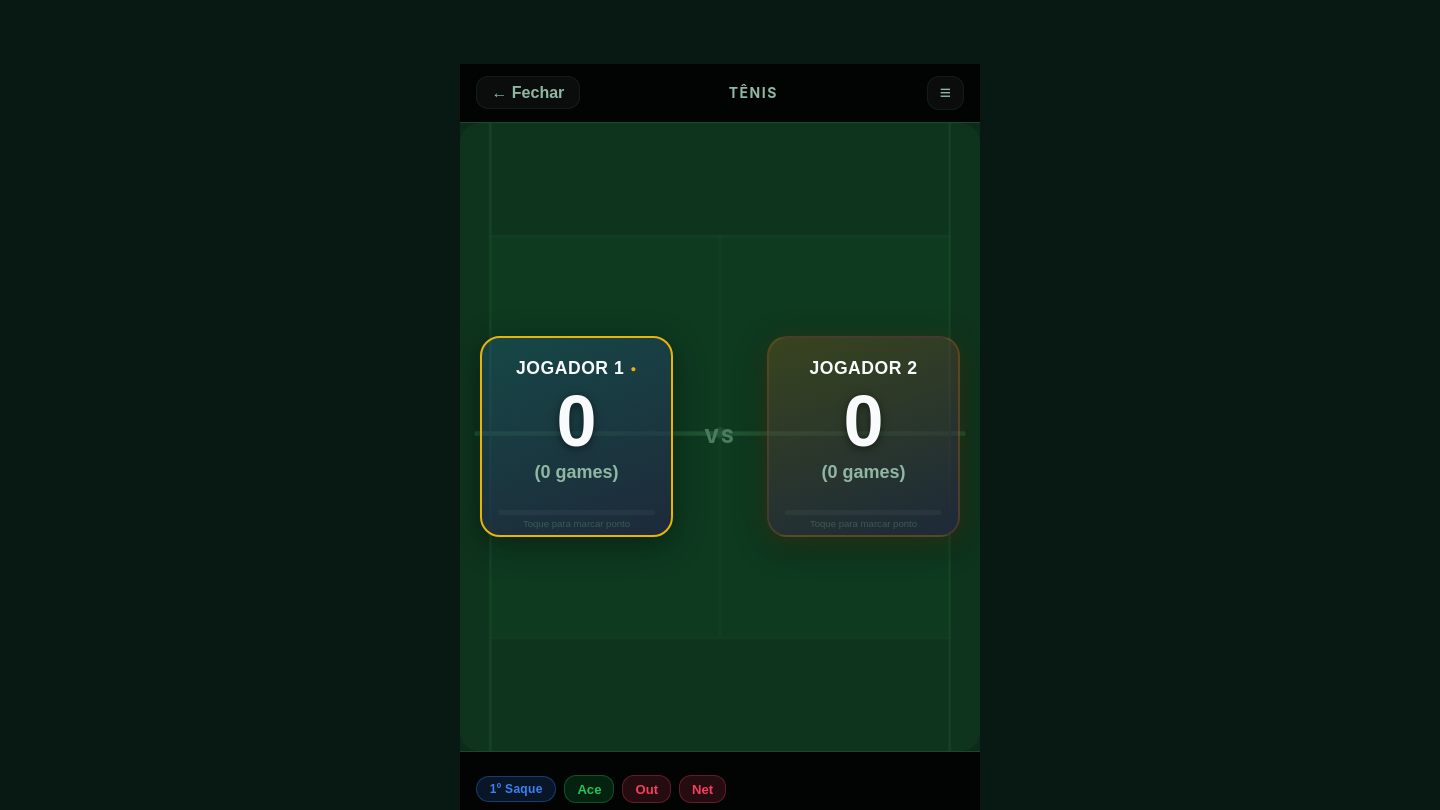
Test: ScoreboardV2 - Ace Button Behavior › Ace button functionality › opens ServerEffectModal when Ace button is clicked on second serve
The width and height of the screenshot is (1440, 810).
expect the text "Jogador 1" is shown: met, box 516,358 -> 624,378
Go to second serve: click Out → confirm error modal → now in 2º saque
Click the button "Out".
click(647, 789)  # box 622,775 -> 671,803
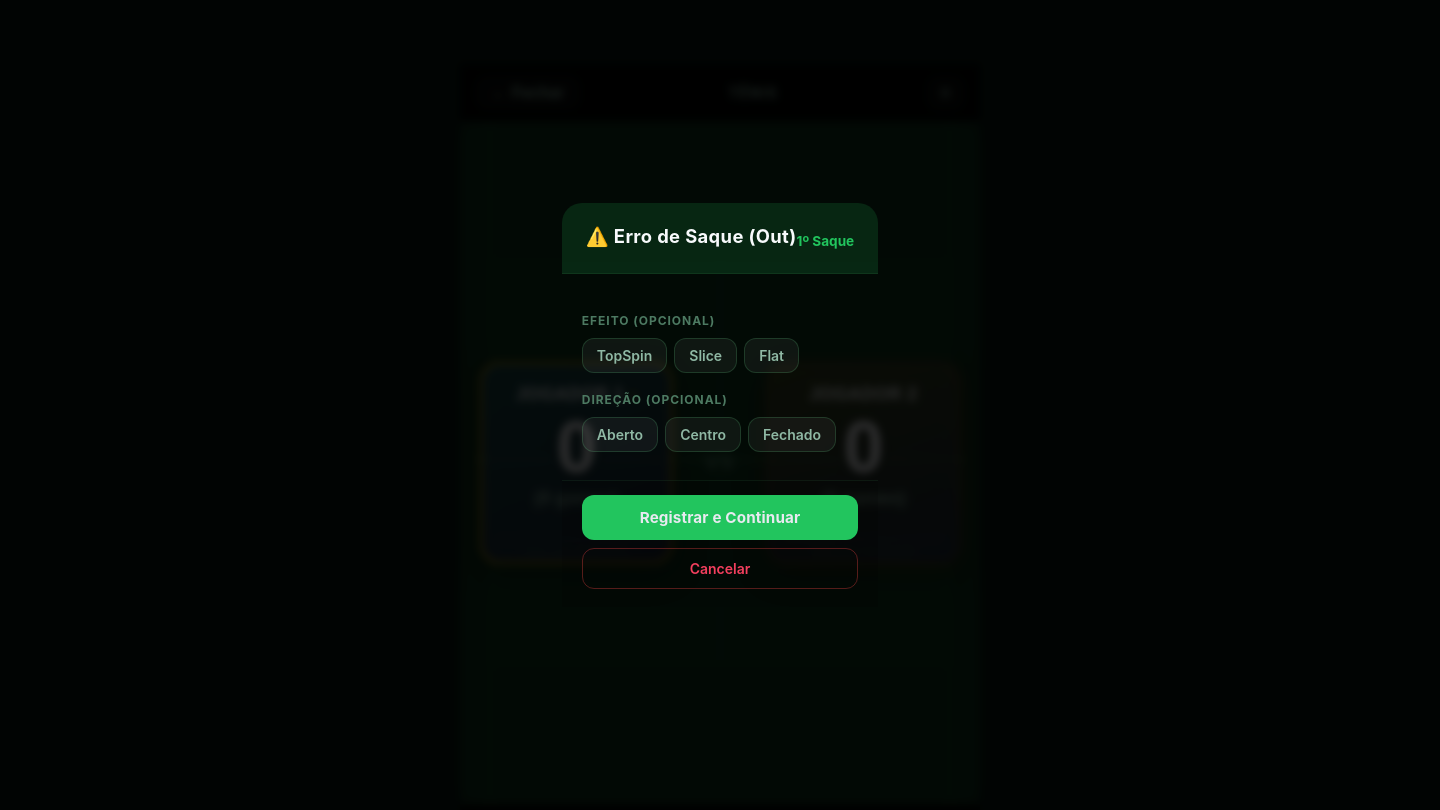
Click the button with aria-label "Confirm ServerEffect".
click(720, 517)  # box 582,495 -> 858,540
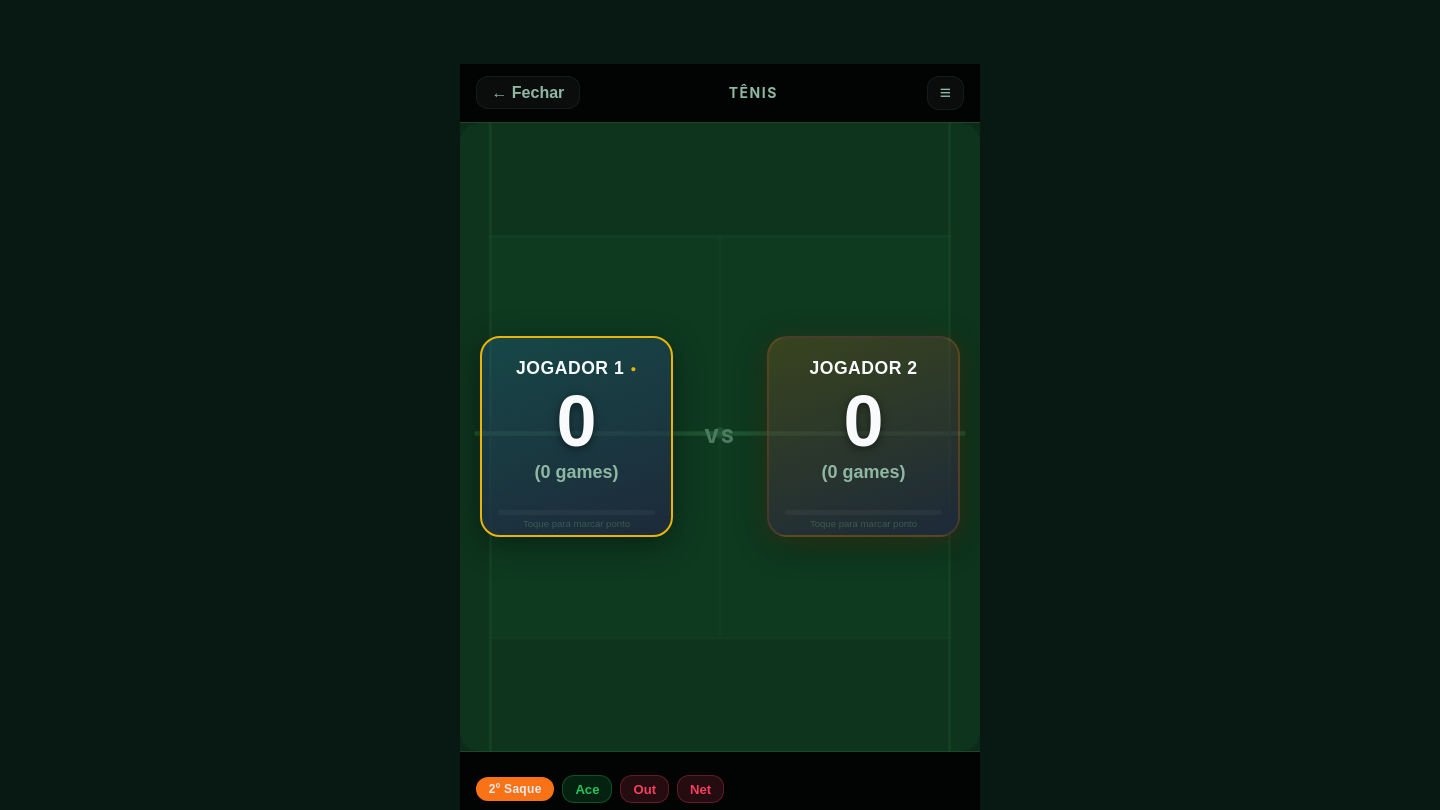
Click the button "Ace".
click(587, 789)  # box 562,775 -> 612,803
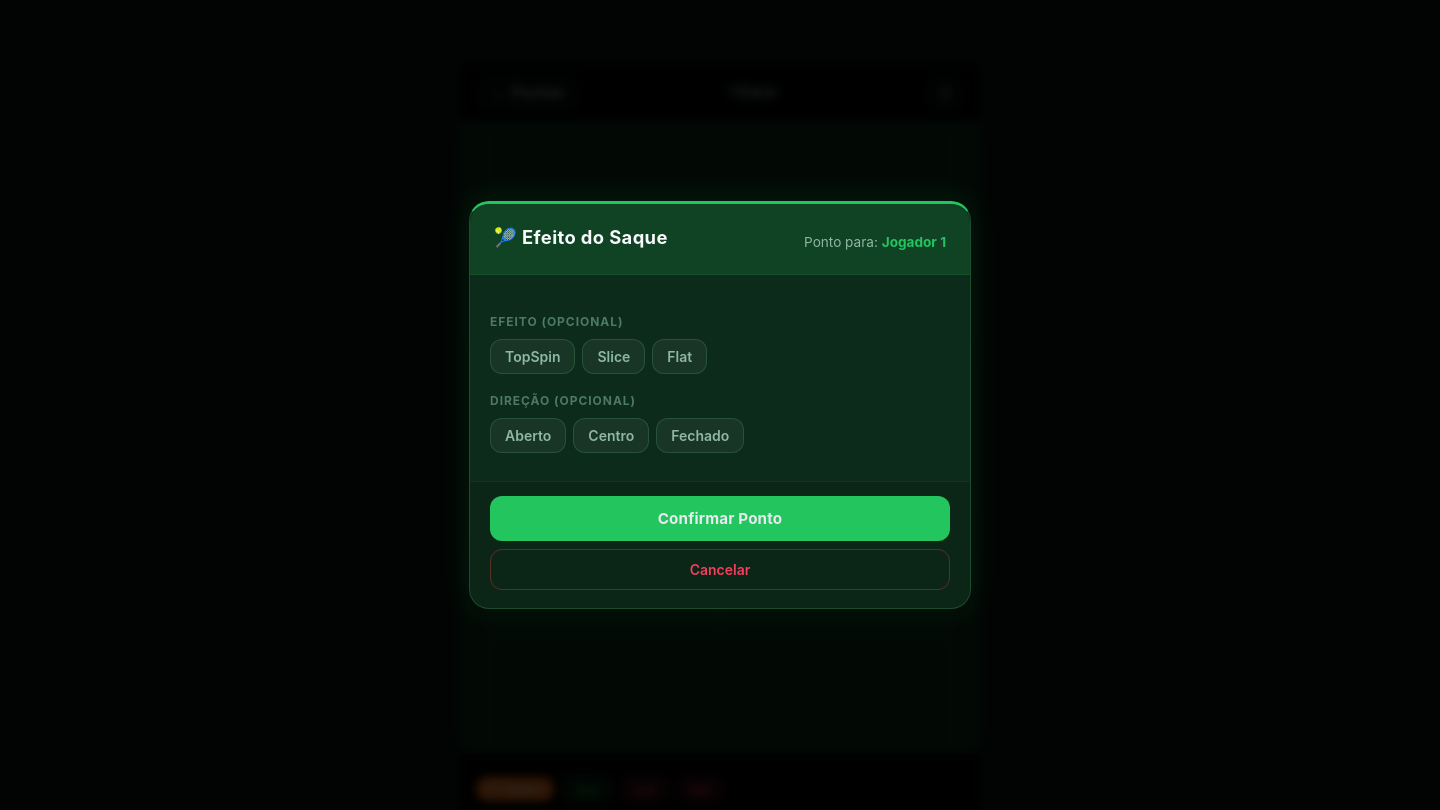
expect the element with test id "server-effect-modal" is shown: met, box 469,201 -> 971,609
